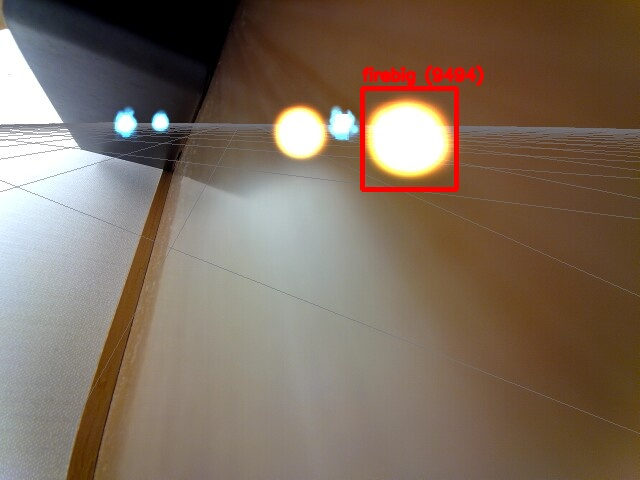firebig: (362, 88, 456, 189)
